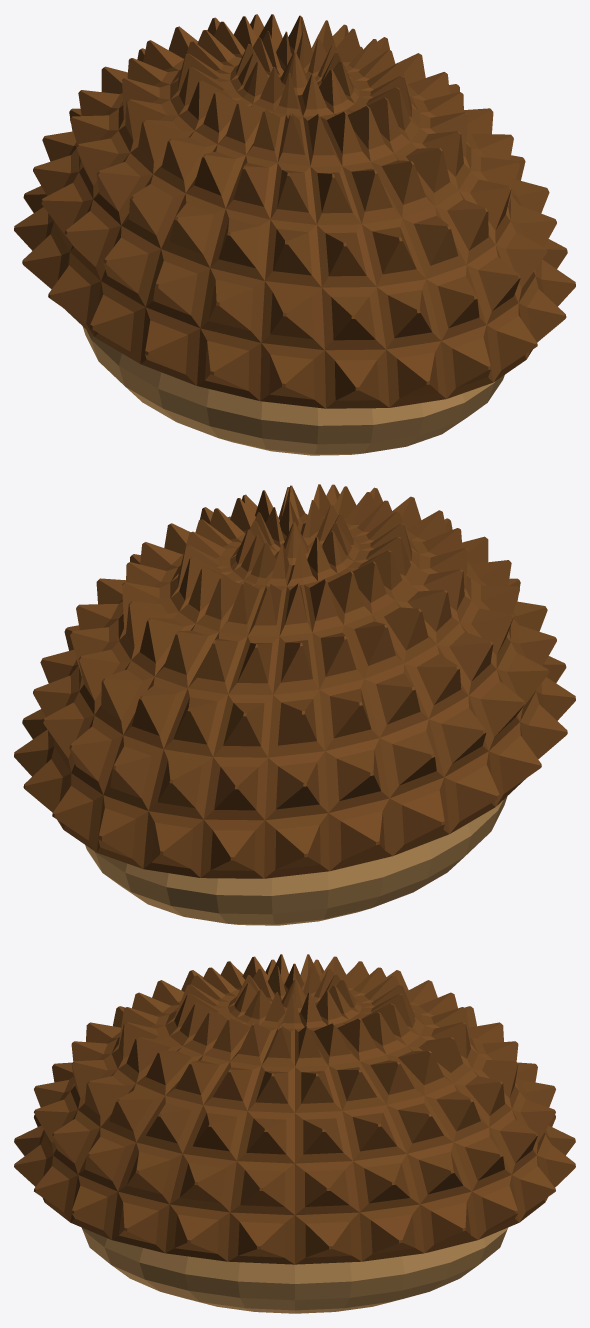
The model's file is HedgeHog.fbx.
The picture shows the model from 3 angles, top to bottom: view 1: azimuth 30°, elevation 25°; view 2: azimuth 150°, elevation 25°; view 3: azimuth 270°, elevation 25°; orthographic projection. The views are drawn at different scales.
Visible parts, largest first — view 1: Sphere, Sphere.001; view 2: Sphere, Sphere.001; view 3: Sphere, Sphere.001.
Part boxes in pixels (x1,y1,x2,y2): Sphere: [14, 14, 575, 408]; Sphere.001: [82, 326, 504, 455]; Sphere: [14, 484, 575, 878]; Sphere.001: [85, 796, 507, 925]; Sphere: [14, 954, 575, 1264]; Sphere.001: [82, 1227, 507, 1313].
Size of the model in its own units: 75.1 by 56.59 by 94.95.
Materials: 1 (1 with a texture image).
